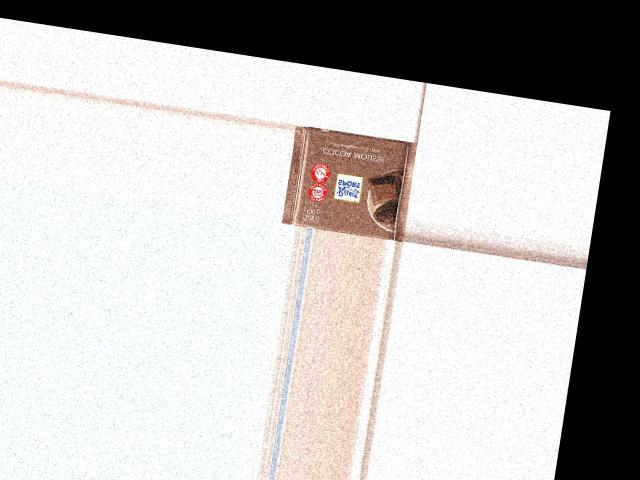chocolate: (283, 123, 418, 241)
